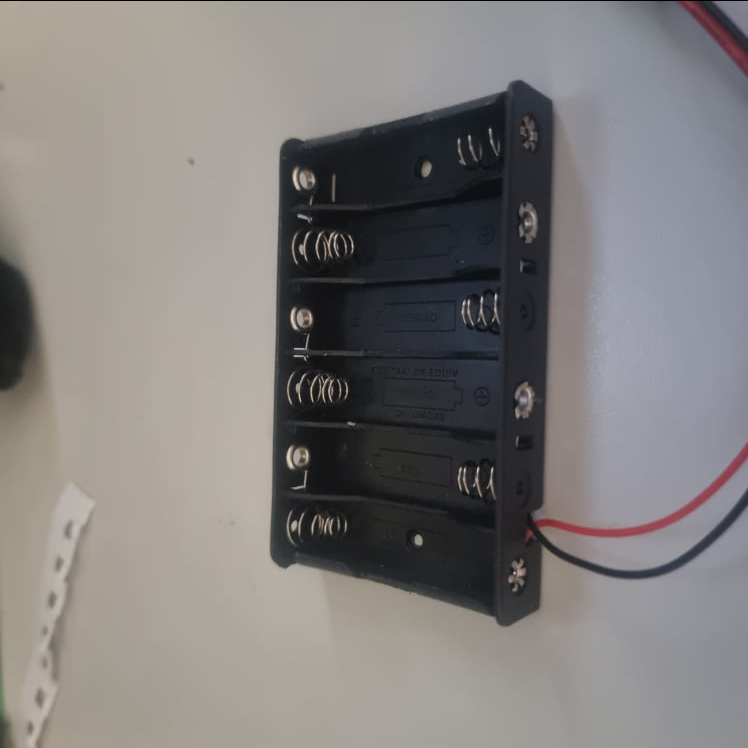BATTERY BOX: (269, 80, 548, 629)
